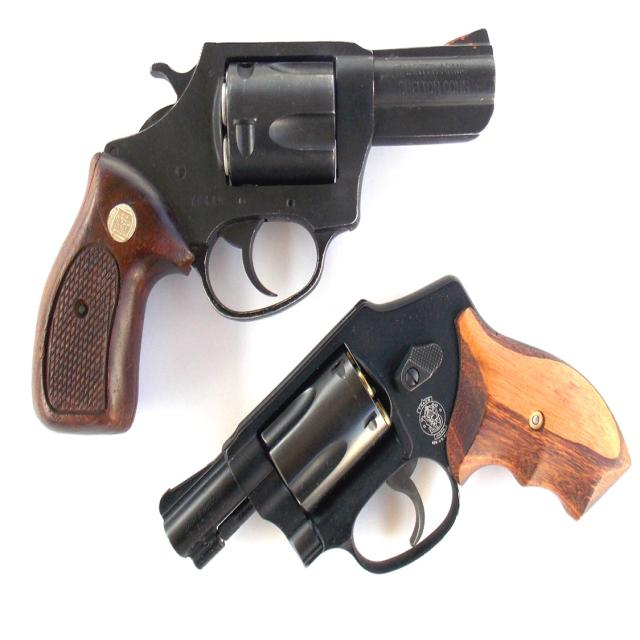Gun: (0, 0, 517, 435), (143, 268, 640, 630)
